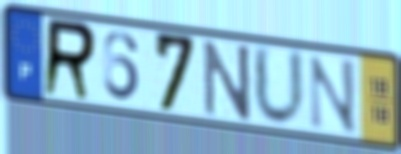6: (102, 30, 142, 105)
7: (152, 29, 198, 115)
N: (201, 38, 254, 123), (307, 53, 359, 137)
R: (40, 15, 99, 105)
U: (251, 41, 308, 131)
